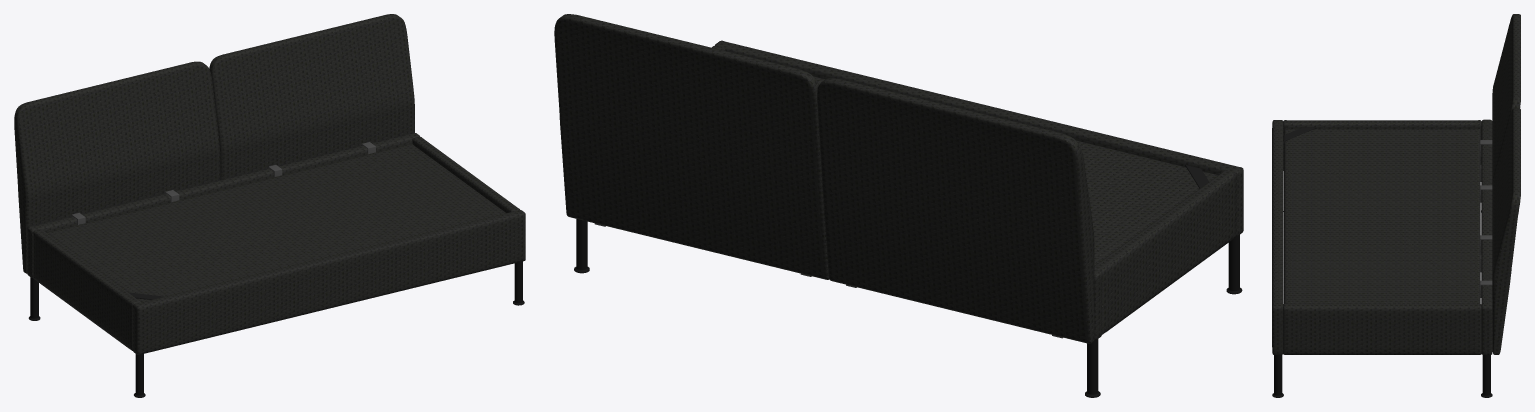
The model's file is 08 - VITTSKÄR 2-seat sofa - outdoorplastic rattan dark grey.glb.
The picture shows the model from 3 angles, left to right: view 1: azimuth 30°, elevation 25°; view 2: azimuth 150°, elevation 25°; view 3: azimuth 270°, elevation 25°; orthographic projection. The views are drawn at different scales.
Visible parts, largest first — view 1: 49591077_49591077_it_002, 49591077_49591077_it_000, 49591077_49591077_it_005; view 2: 49591077_49591077_it_002, 49591077_49591077_it_000; view 3: 49591077_49591077_it_002, 49591077_49591077_it_000, 49591077_49591077_it_005.
Boxes of the visible parts, box(x1,y1,x2,y2) form: 49591077_49591077_it_002: box(14, 14, 525, 354); 49591077_49591077_it_000: box(28, 261, 524, 397); 49591077_49591077_it_005: box(71, 142, 375, 224); 49591077_49591077_it_002: box(554, 14, 1243, 343); 49591077_49591077_it_000: box(574, 219, 1242, 397); 49591077_49591077_it_002: box(1272, 14, 1520, 354); 49591077_49591077_it_000: box(1272, 210, 1492, 397); 49591077_49591077_it_005: box(1480, 140, 1492, 297).
Size of the model in its own units: 1.6 by 0.7937 by 0.892.
Materials: 4 (2 with a texture image).
